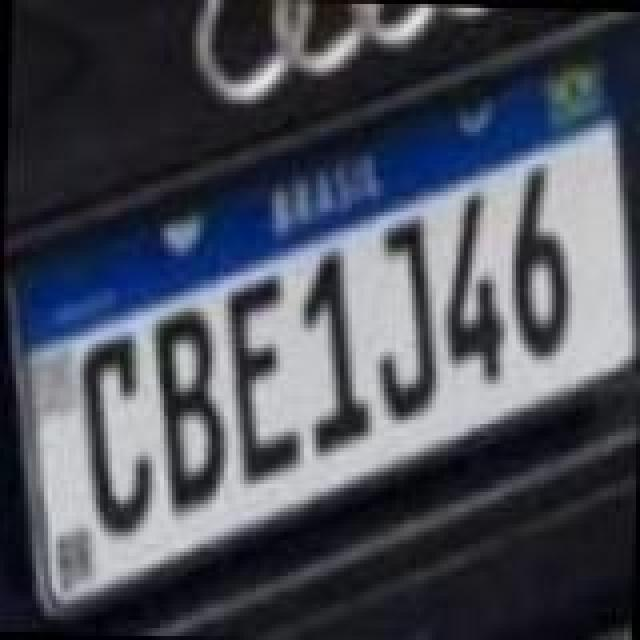1: (294, 244, 374, 460)
4: (438, 184, 510, 388)
6: (504, 160, 572, 360)
B: (144, 308, 232, 516)
C: (72, 328, 160, 536)
E: (216, 266, 308, 490)
J: (370, 206, 446, 426)
